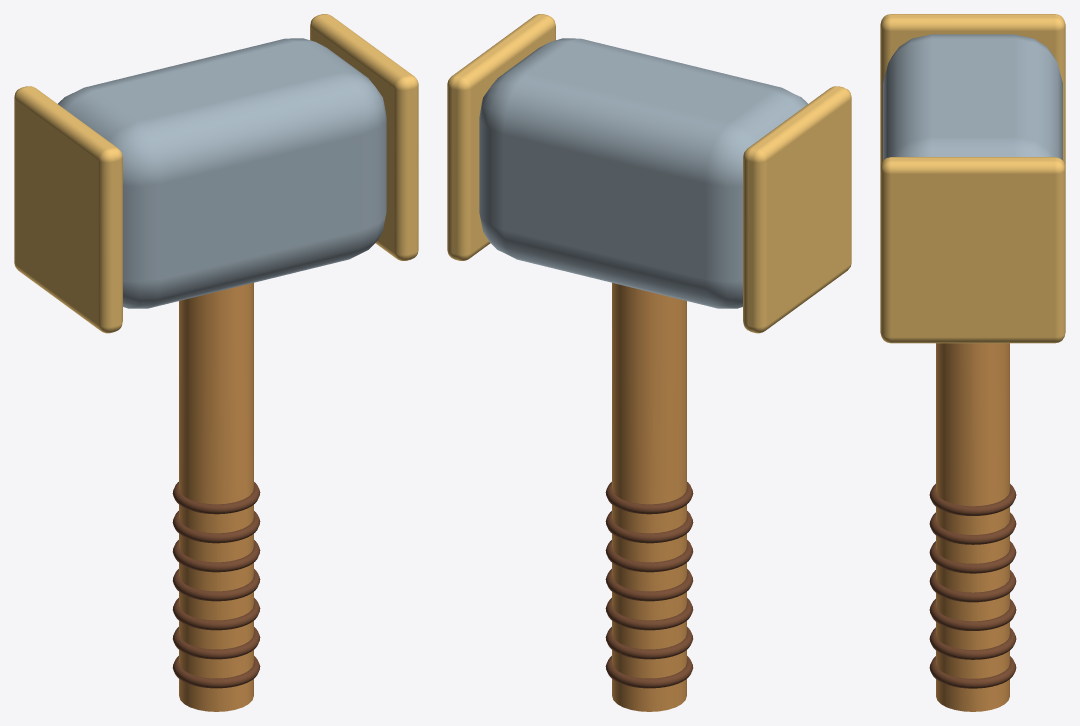
The model's file is HAMMER.glb.
3 renders of one model, left to right at view 1: azimuth 30°, elevation 25°; view 2: azimuth 150°, elevation 25°; view 3: azimuth 270°, elevation 25°, orthographic.
Visible parts, largest first — view 1: HAMMER; view 2: HAMMER; view 3: HAMMER.
Boxes of the visible parts, x1,y1,x2,y2 form: HAMMER: [14, 14, 418, 711]; HAMMER: [447, 14, 851, 711]; HAMMER: [880, 14, 1065, 711].
Bounding box in the file's own units: 0.345 × 0.635 × 0.175.
Materials: 4 (1 with a texture image).
